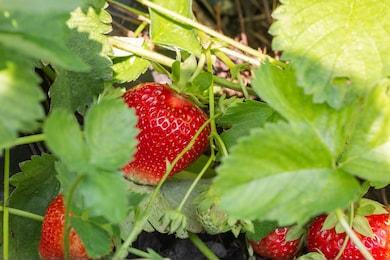Fresa: (101, 76, 218, 193)
